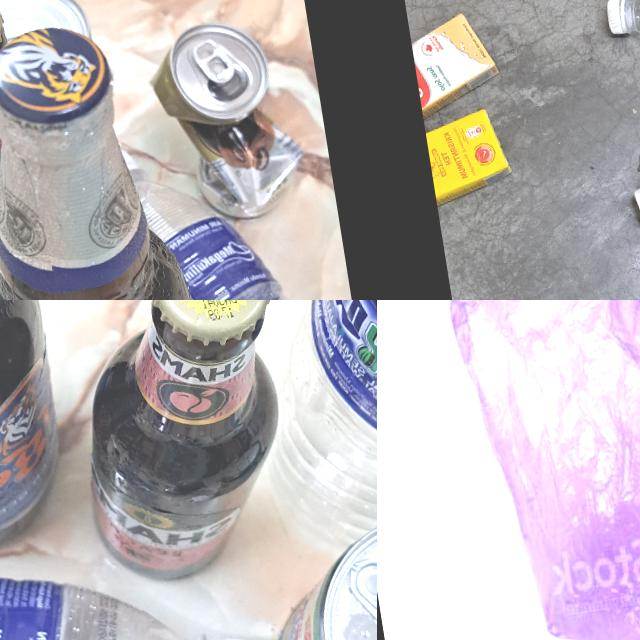aba de lata: (344, 553, 377, 640), (191, 35, 237, 87)
caixinha: (408, 8, 503, 122), (424, 106, 516, 206)
garrafa de vidro: (48, 300, 315, 596), (0, 13, 216, 300), (0, 300, 79, 563), (0, 0, 45, 298)
garrafa plástica: (217, 300, 377, 573), (130, 132, 377, 300), (0, 537, 220, 640)
lata: (146, 15, 305, 228), (254, 519, 377, 640)
papel: (377, 0, 640, 93)
sacola plástica: (412, 300, 640, 640)
tampa plástica: (605, 0, 629, 34), (632, 183, 640, 224)
